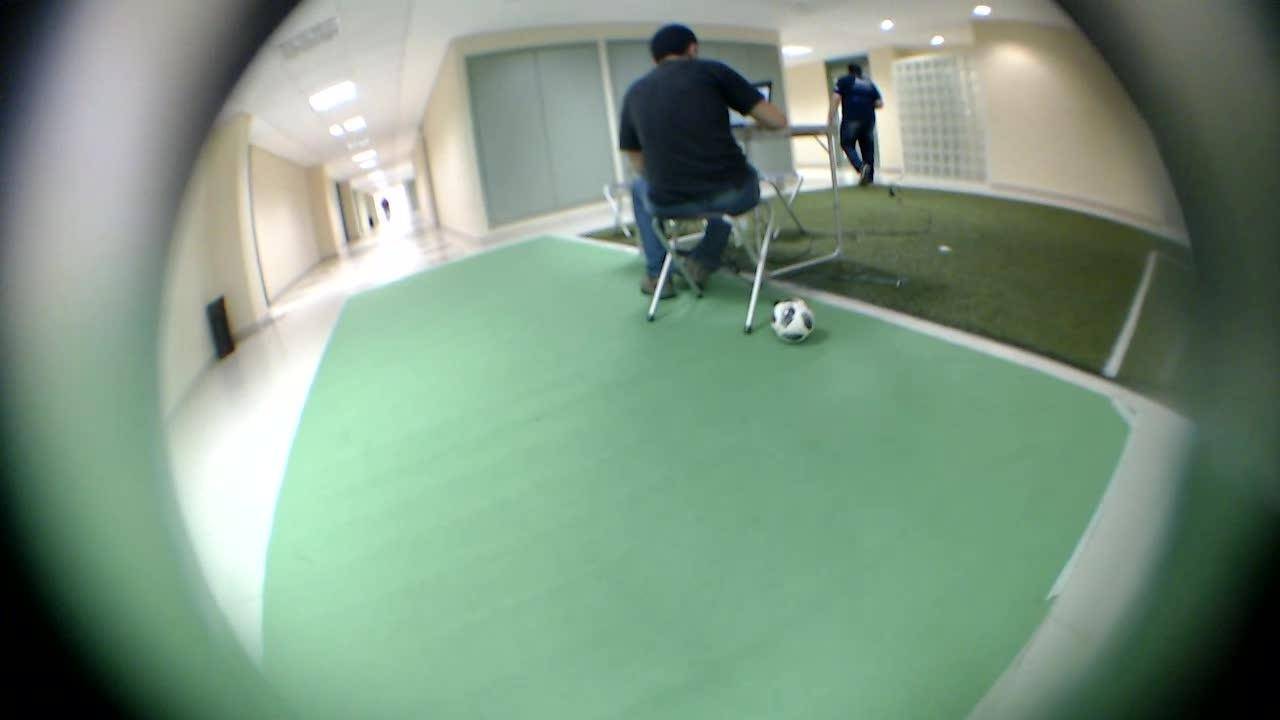ball: (764, 283, 822, 358)
